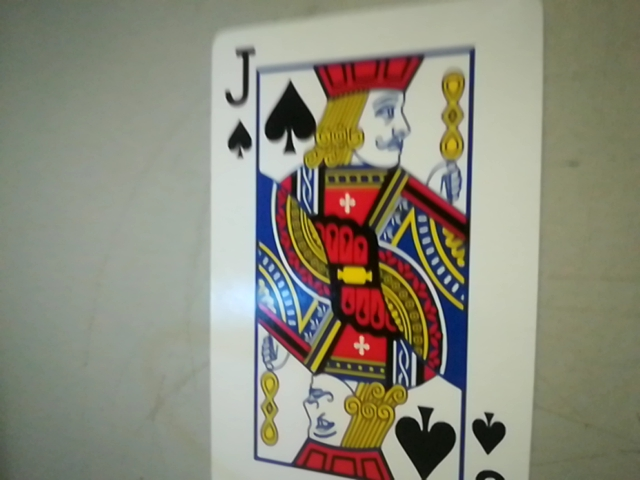ht j: (214, 41, 262, 158)
